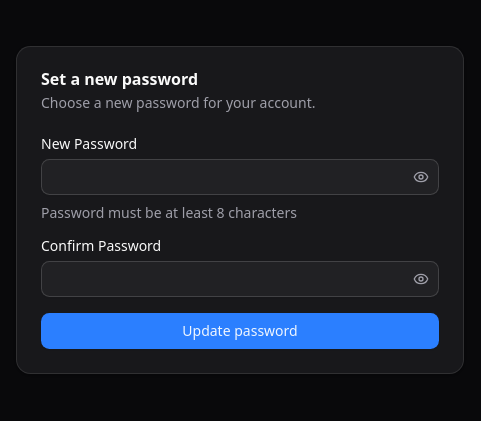
/reset-password route › keeps the form and captures when verification fails with an unexpected server error
In the password field labelled "New Password": (240, 177) [41, 159, 439, 195], type "newpassword123"
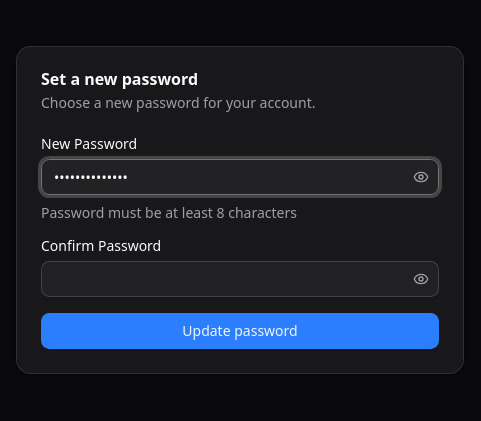
In the password field labelled "Confirm Password": (240, 279) [41, 261, 439, 297], type "newpassword123"
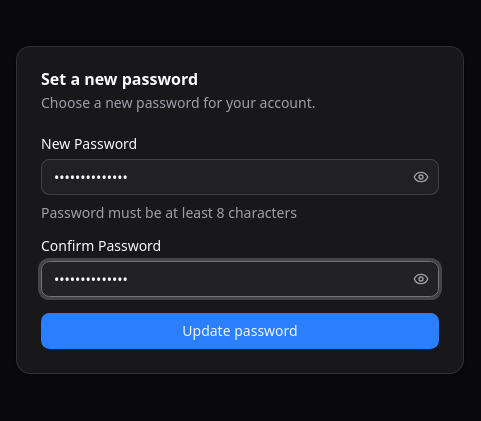
Click the button "Update password": (240, 331) [41, 313, 439, 349]
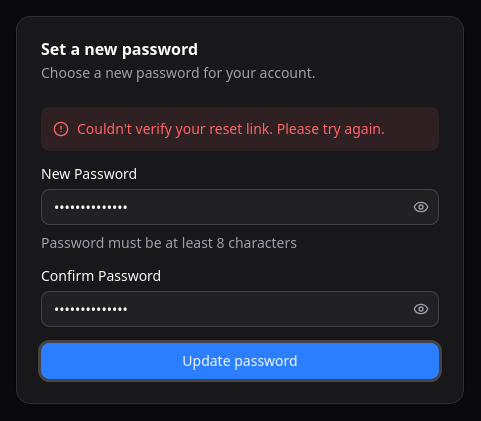
Expected: the message shows "Couldn't verify your reset link", [77, 119, 385, 138]
